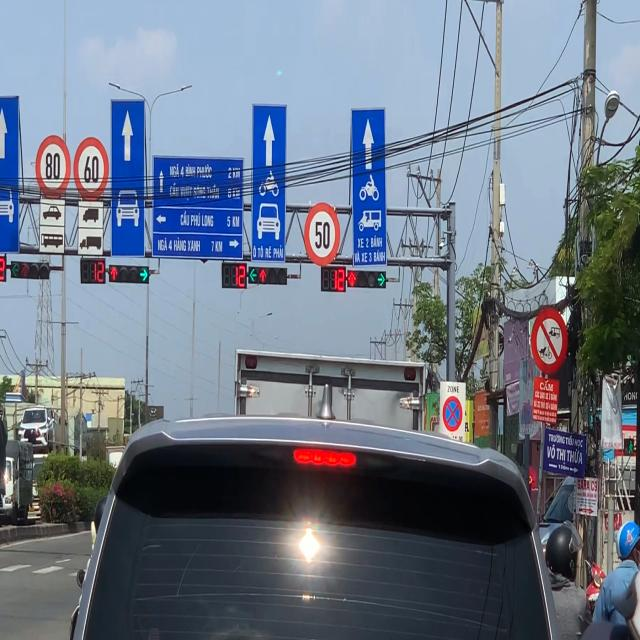Cam con lai: (530, 308, 568, 374)
Cam dung va do: (442, 396, 462, 432)
Toc do toi da: (36, 134, 72, 200), (73, 137, 109, 202), (304, 202, 340, 266)
